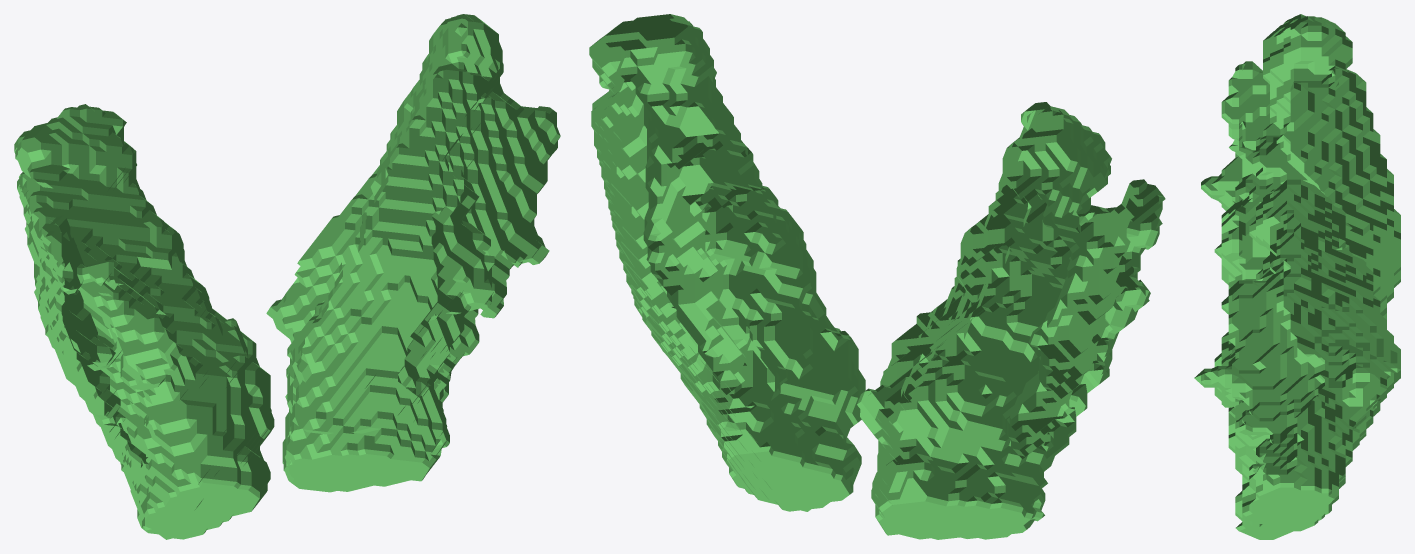
File: region_0086_MFN__medial_funicular_nucleus_.glb
3 views of the same model, side by side, from view 1: azimuth 30°, elevation 25°; view 2: azimuth 150°, elevation 25°; view 3: azimuth 270°, elevation 25° (orthographic). The views are drawn at different scales.
Visible parts, largest first — view 1: world; view 2: world; view 3: world.
Boxes of the visible parts, box(x1,y1,x2,y2) form: world: box(14, 14, 560, 539); world: box(589, 14, 1165, 539); world: box(1194, 14, 1400, 539).
Size of the model in its own units: 0.616 by 0.488 by 0.24.
